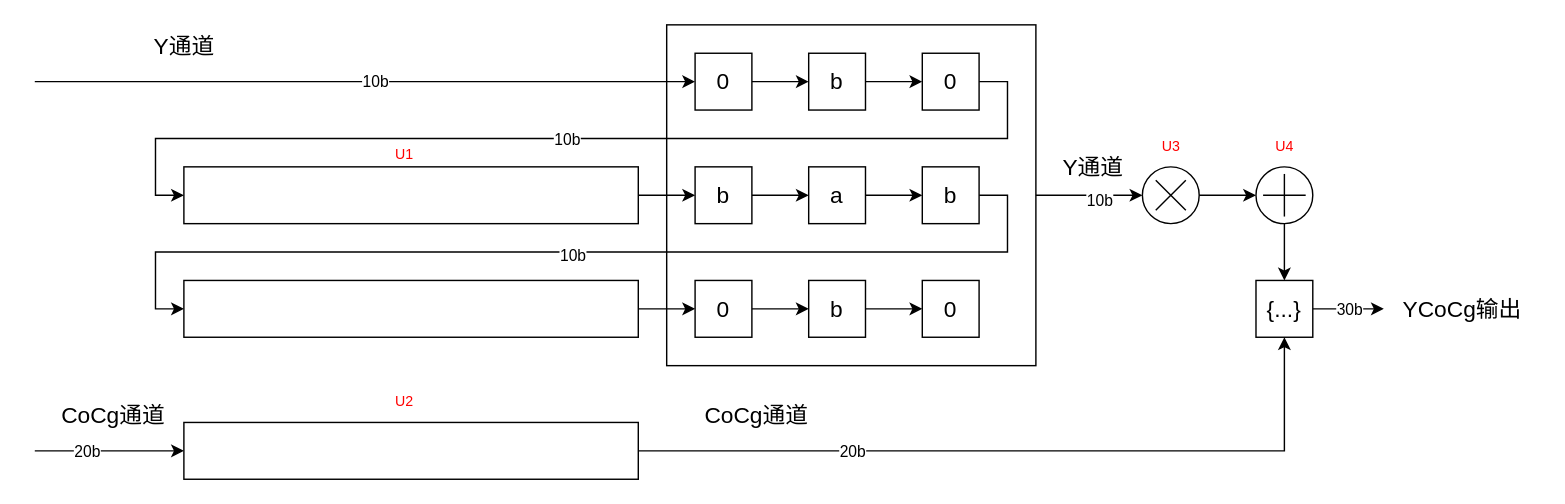
This 1565x504 diagram has some shape labels left out. Each missing label, with the centre of its shape:
"长移位寄存器0" goes at point (410, 194).
"长移位寄存器1" goes at point (410, 308).
"长移位寄存器2" goes at point (410, 450).
